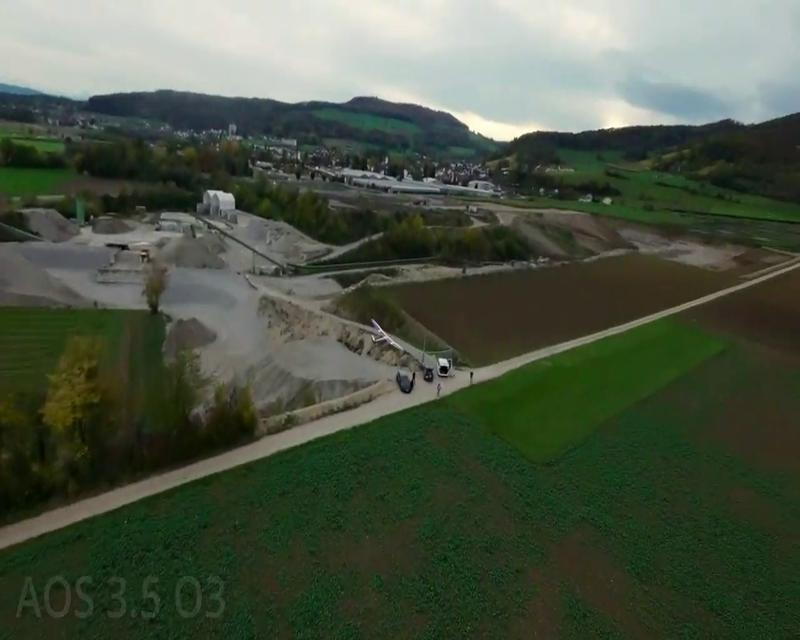UAV: (371, 319, 404, 350)
